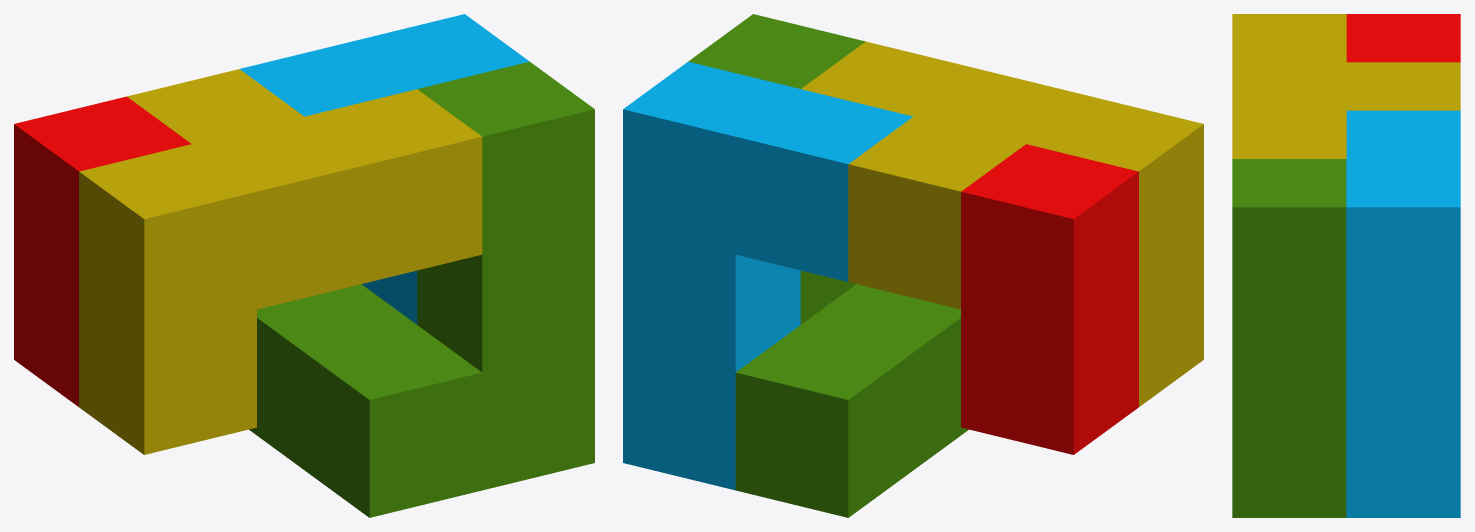
The picture shows the model from 3 angles, left to right: view 1: azimuth 30°, elevation 25°; view 2: azimuth 150°, elevation 25°; view 3: azimuth 270°, elevation 25°; orthographic projection. The views are drawn at different scales.
Parts seen in each view (by area): view 1: mergedBlocks(Clone); view 2: mergedBlocks(Clone); view 3: mergedBlocks(Clone).
Boxes of the visible parts, box(x1,y1,x2,y2) form: mergedBlocks(Clone): box(14, 14, 594, 517); mergedBlocks(Clone): box(623, 14, 1203, 517); mergedBlocks(Clone): box(1232, 14, 1460, 517).
Size of the model in its own units: 4 by 3 by 2.
4 materials, 4 textured.
